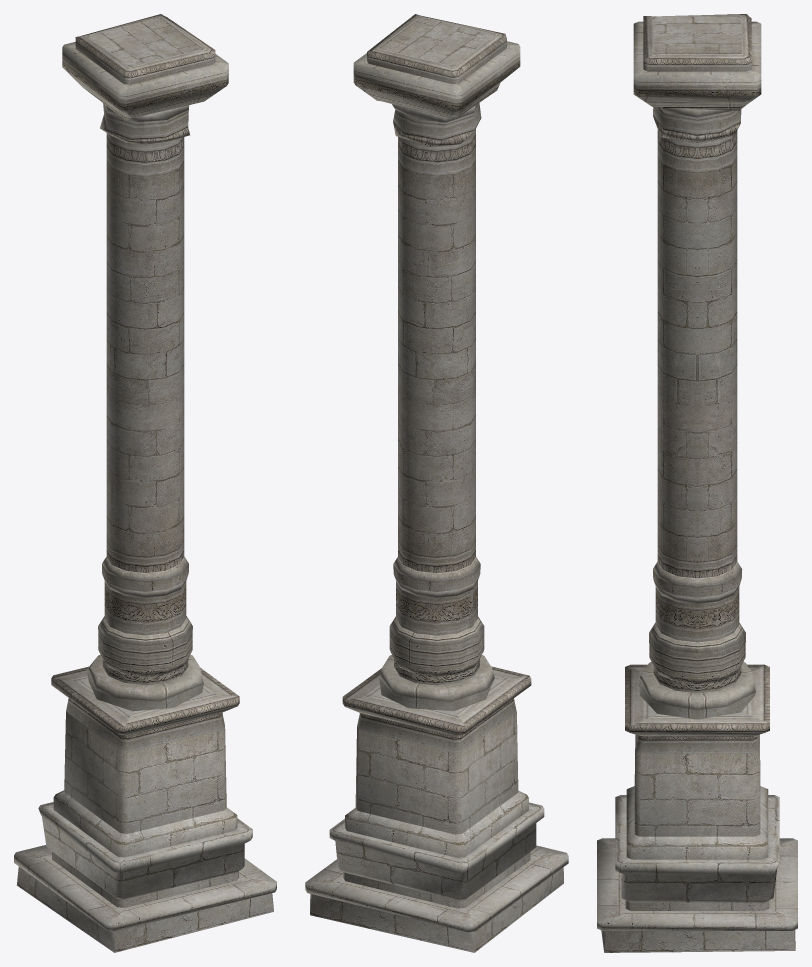
Rendered from gidung2.fbx.
3 views of the same model, side by side, from view 1: azimuth 30°, elevation 25°; view 2: azimuth 150°, elevation 25°; view 3: azimuth 270°, elevation 25° (orthographic). The views are drawn at different scales.
Parts seen in each view (by area): view 1: LV_Campagna_Uni_BigCol_SM_CJH; view 2: LV_Campagna_Uni_BigCol_SM_CJH; view 3: LV_Campagna_Uni_BigCol_SM_CJH.
Part boxes in pixels (left/top/right/bottom): LV_Campagna_Uni_BigCol_SM_CJH: left=14, top=14, right=276, bottom=952; LV_Campagna_Uni_BigCol_SM_CJH: left=305, top=14, right=568, bottom=952; LV_Campagna_Uni_BigCol_SM_CJH: left=597, top=14, right=797, bottom=952.
Bounding box in the file's own units: 0.7895 × 3.8 × 0.7895.
Materials: 1 (1 with a texture image).
